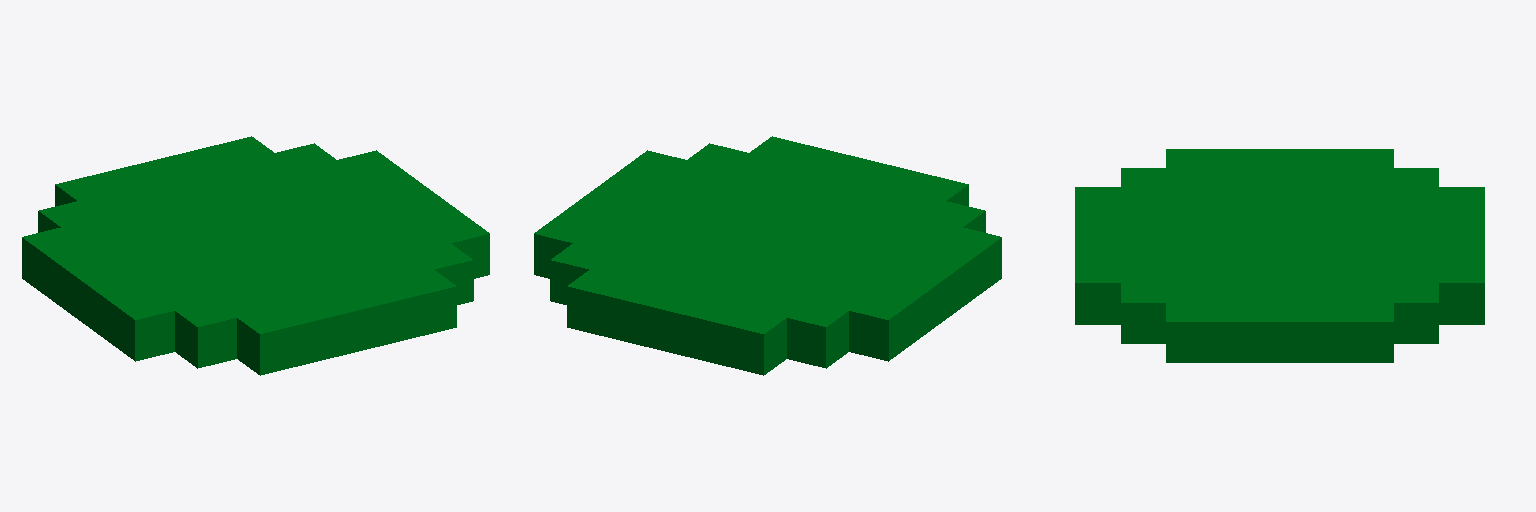
The model's file is burger_lettuce.obj.
The picture shows the model from 3 angles: view 1: azimuth 30°, elevation 25°; view 2: azimuth 150°, elevation 25°; view 3: azimuth 270°, elevation 25°; orthographic projection.
Visible parts, largest first — view 1: model_0; view 2: model_0; view 3: model_0.
Boxes of the visible parts, <box> form: model_0: <box>22,136,489,375</box>; model_0: <box>534,136,1001,375</box>; model_0: <box>1075,149,1484,362</box>.
Bounding box in the file's own units: 0.9 × 0.1 × 0.9.